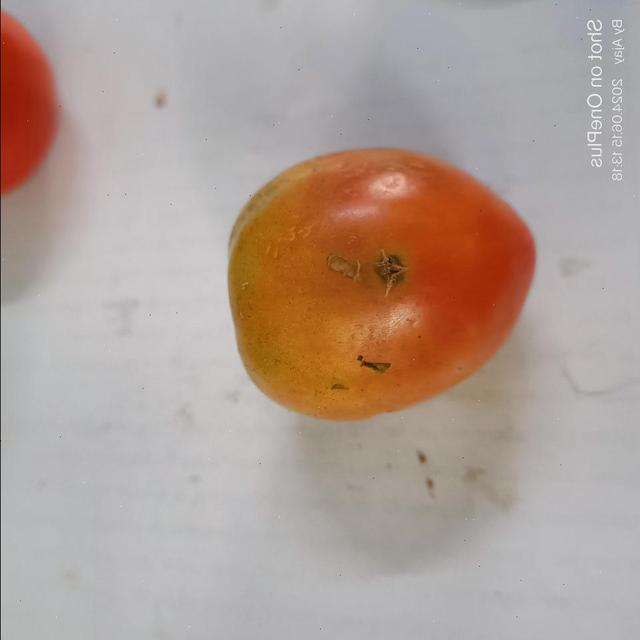Bacterial Spot Fruit: (23, 15, 259, 245)
